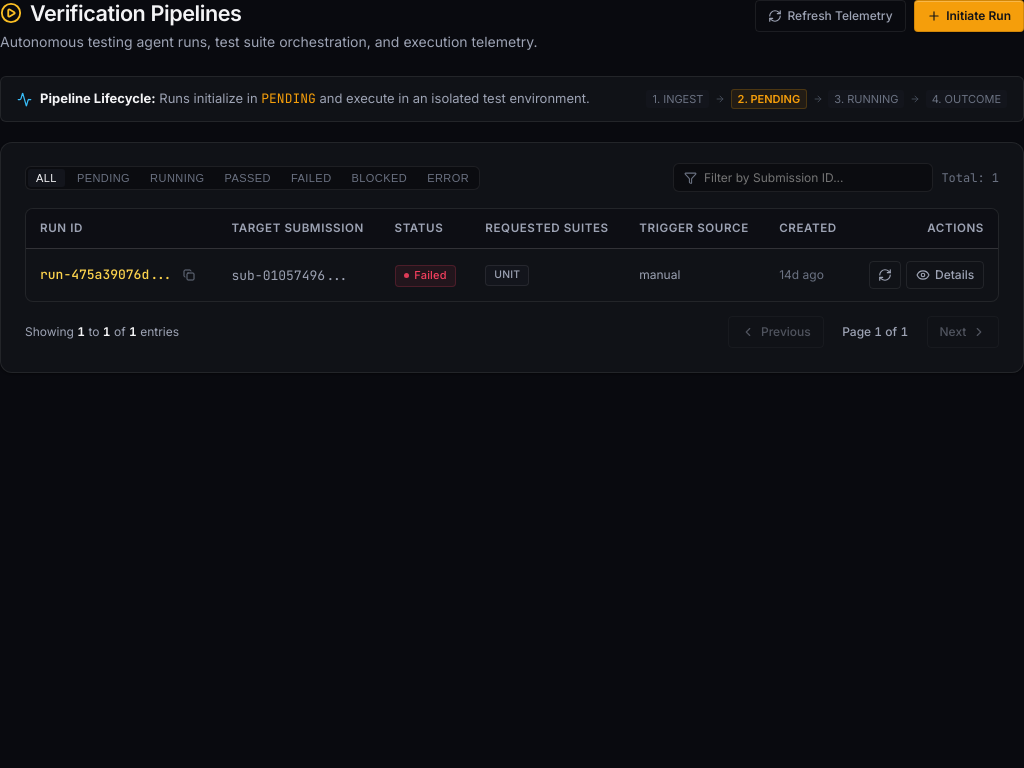
Test case: Repair Ingestion & Re-Verification UI Workflow › renders re-verified repair attempt with defect resolution verdict and comparison table
Click the button "Details" at (945, 275), box [906, 261, 984, 289]
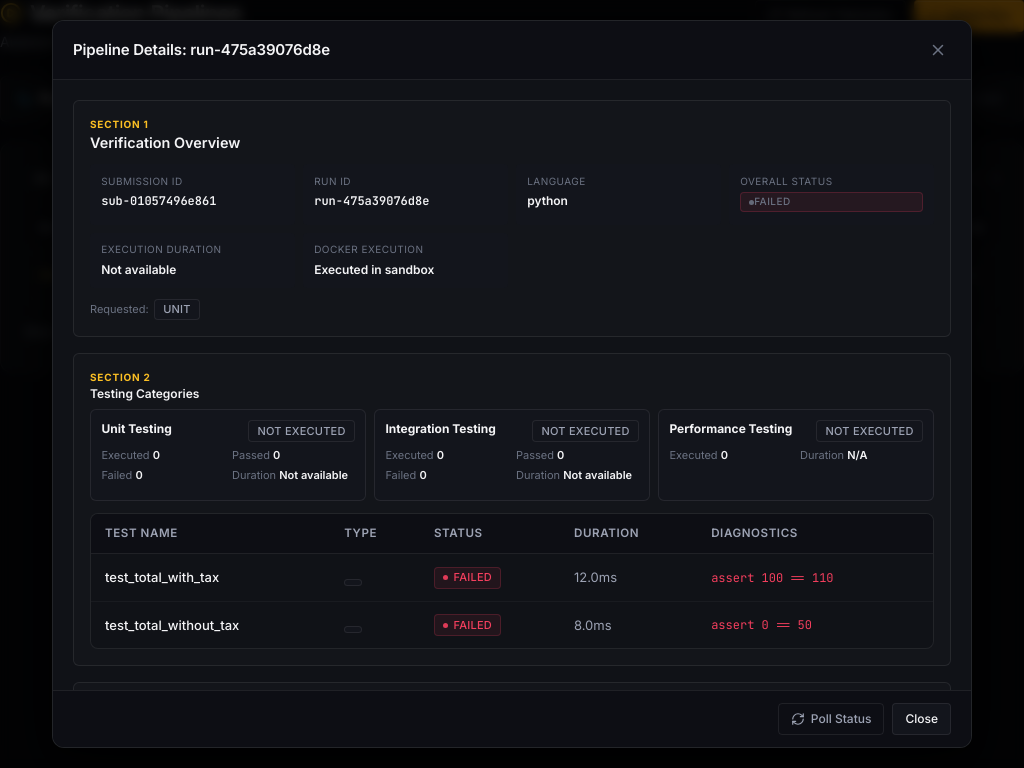
Result: the text "test_total_with_tax" is shown at [105, 569, 219, 585]
Result: the text "test_total_without_tax" is shown at [105, 617, 239, 633]
